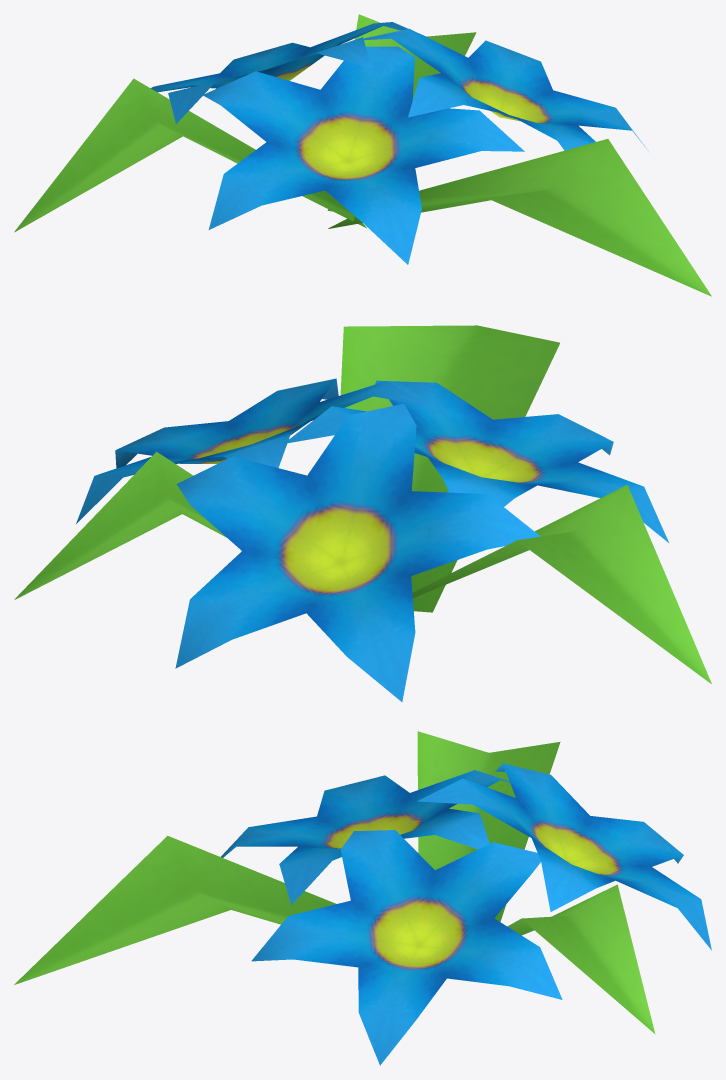
File: Flower01.FBX
3 renders of one model, top to bottom at view 1: azimuth 30°, elevation 25°; view 2: azimuth 150°, elevation 25°; view 3: azimuth 270°, elevation 25°, orthographic. The views are drawn at different scales.
Parts seen in each view (by area): view 1: Flower01; view 2: Flower01; view 3: Flower01.
Boxes of the visible parts, x1=… form: Flower01: x1=14, y1=14, x2=711, y2=296; Flower01: x1=14, y1=325, x2=711, y2=701; Flower01: x1=14, y1=731, x2=711, y2=1065.
Bounding box in the file's own units: 232 × 64.92 × 246.
